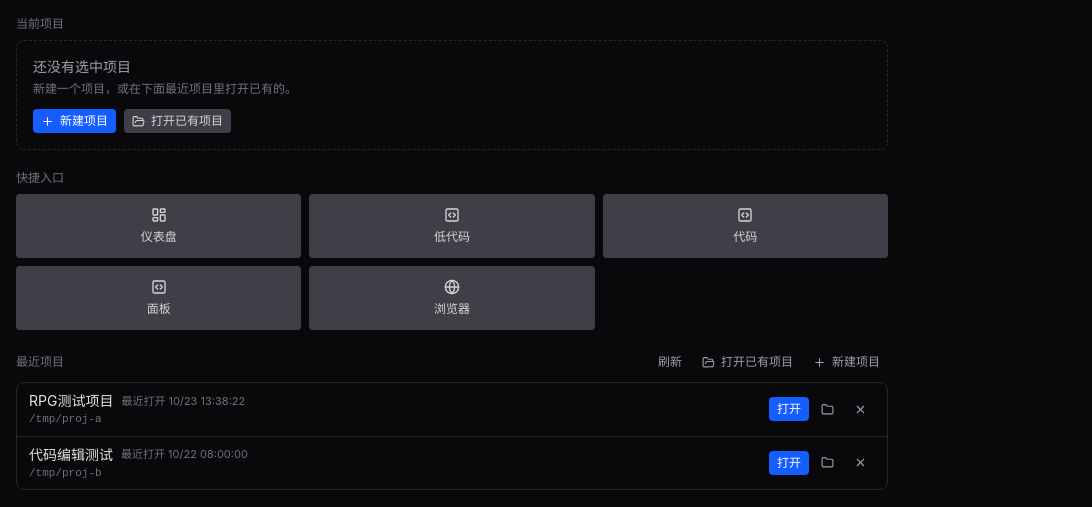
it: HomePanel - 打开与移除 › 点打开：open → getMeta → 注册到 botManager → 设为当前项目并切到仪表盘
Expected: the text "RPG测试项目" is shown, [29,391,113,411]
Click the button "打开" in the row of "RPG测试项目".
click(789, 409)  # box [769,397,809,421]
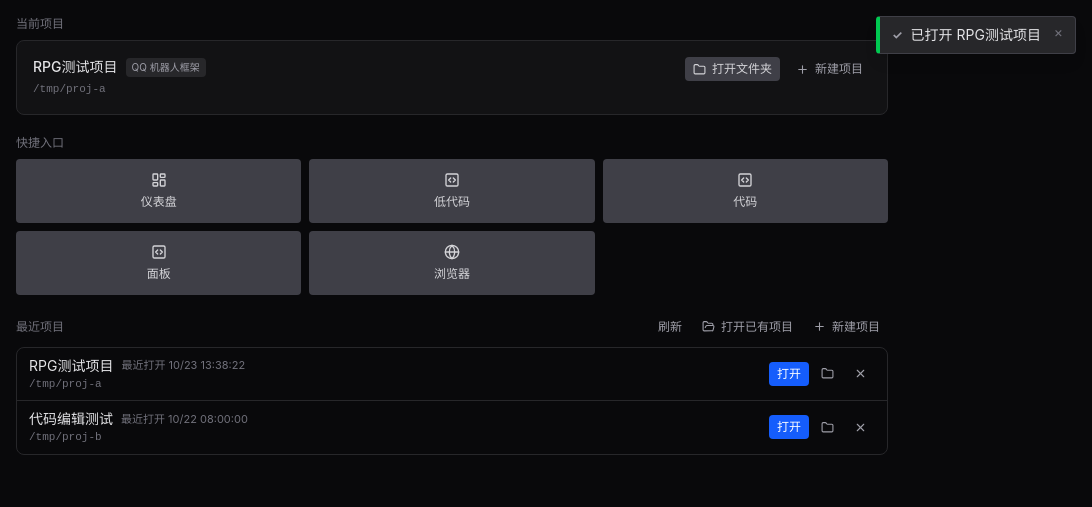
Result: the text "/tmp/proj-a" below "QQ 机器人框架" is shown at [33,83,106,95]
